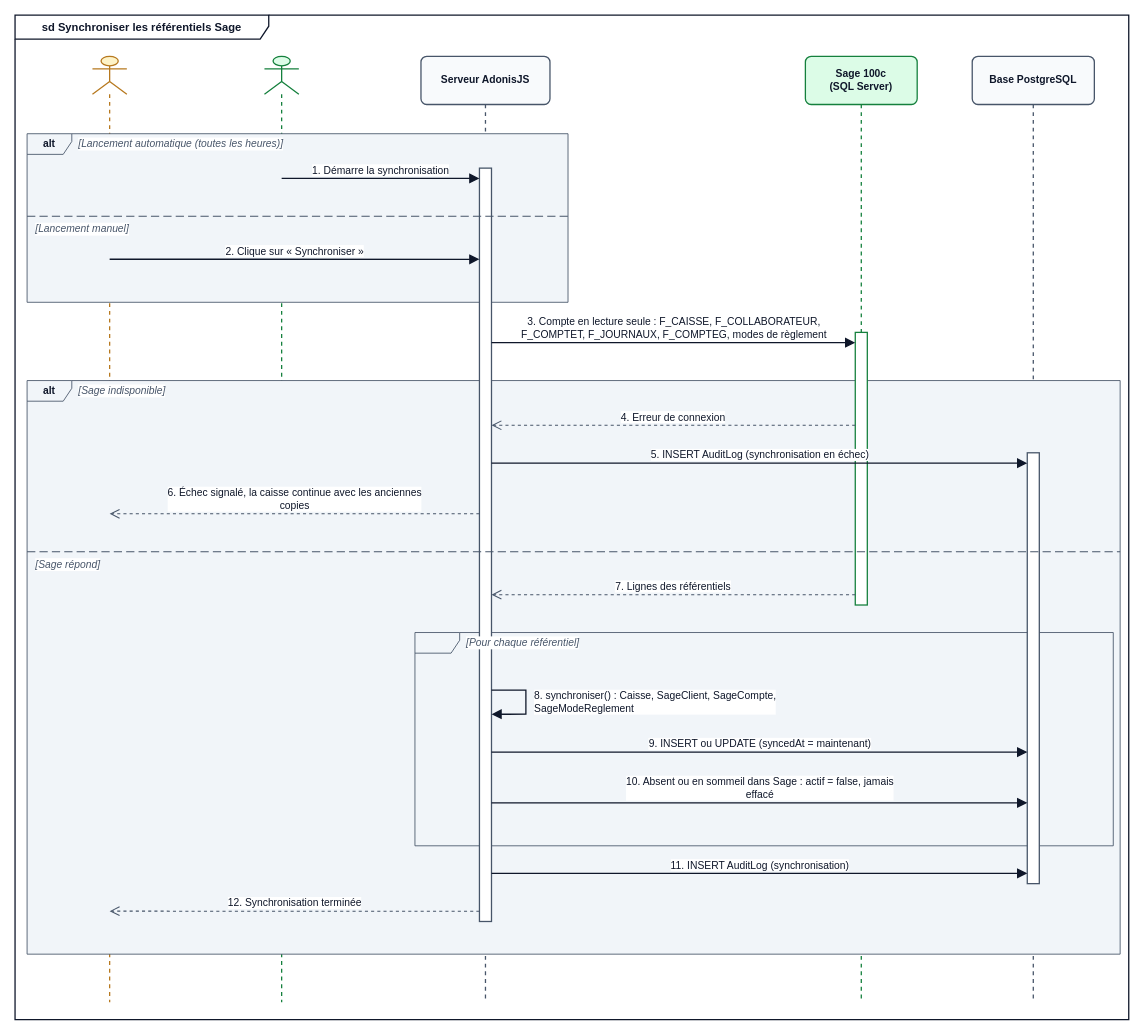
This 1145x1035 diagram has some shape labels left out. Each missing label, with the centre of its shape:
"Administrateur" goes at [109,529].
"loop" goes at [763,739].
"Planificateur" goes at [281,529].
